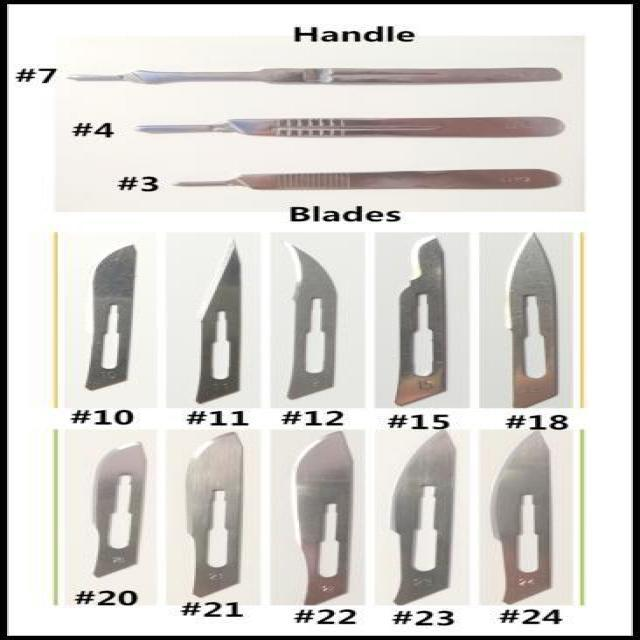Scalpel: (65, 61, 572, 89), (385, 429, 460, 604), (286, 429, 358, 605), (488, 430, 558, 608), (180, 430, 252, 600), (130, 113, 570, 140), (169, 164, 562, 193), (504, 231, 564, 408), (390, 234, 451, 407), (79, 239, 147, 393), (187, 241, 247, 409), (284, 237, 344, 401), (88, 440, 150, 577)
